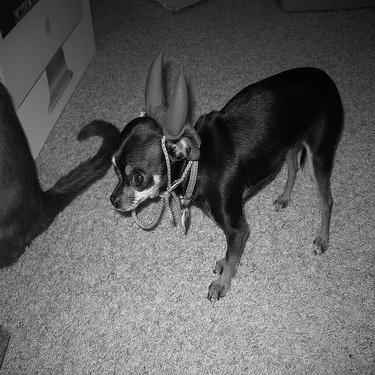dog: (101, 54, 350, 310), (1, 75, 126, 279)
